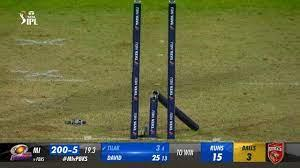stumps: (131, 0, 200, 139)
